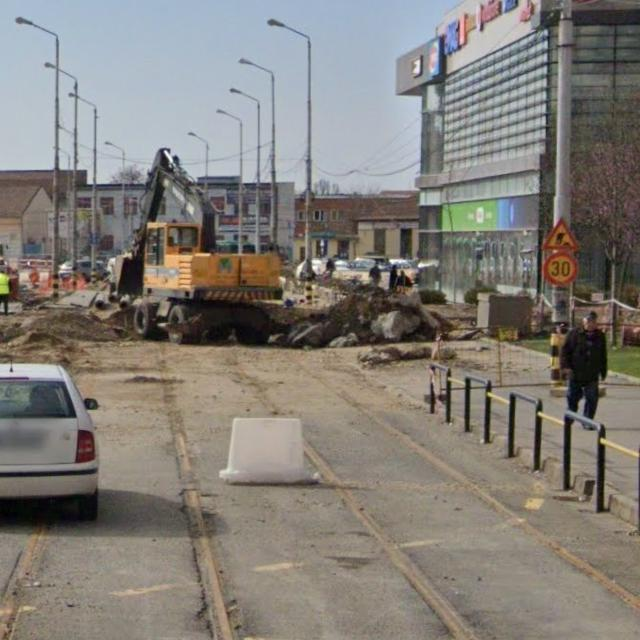forb_speed_over_30: (545, 253, 578, 287)
